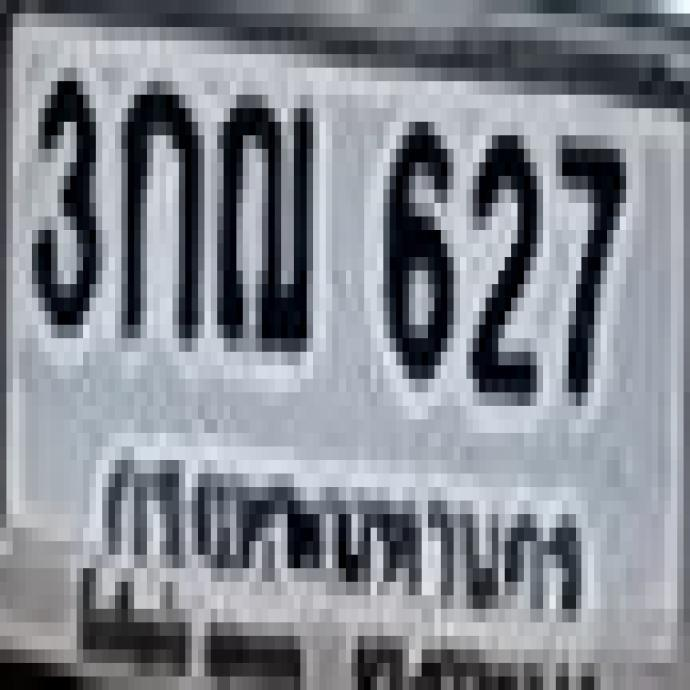2: (466, 122, 534, 392)
3: (29, 61, 95, 324)
6: (380, 109, 453, 389)
7: (554, 125, 620, 392)
A01: (116, 69, 195, 334)
A12: (212, 81, 328, 370)
BKK: (87, 432, 595, 632)
